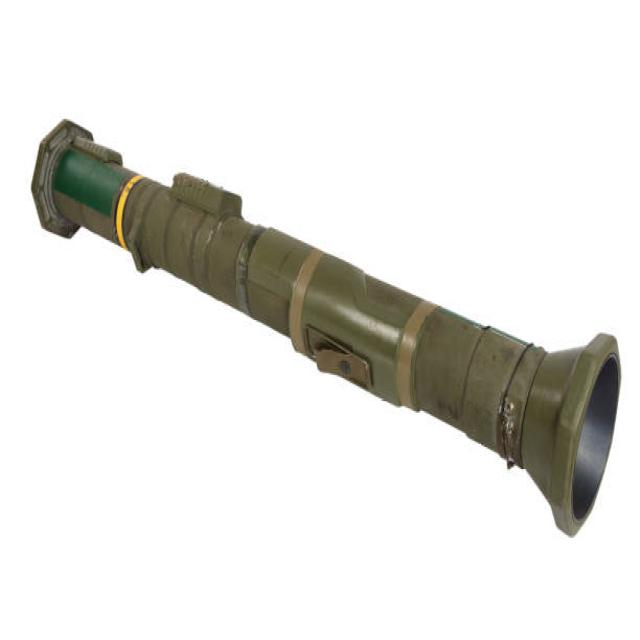bazooka: (26, 110, 629, 547)
